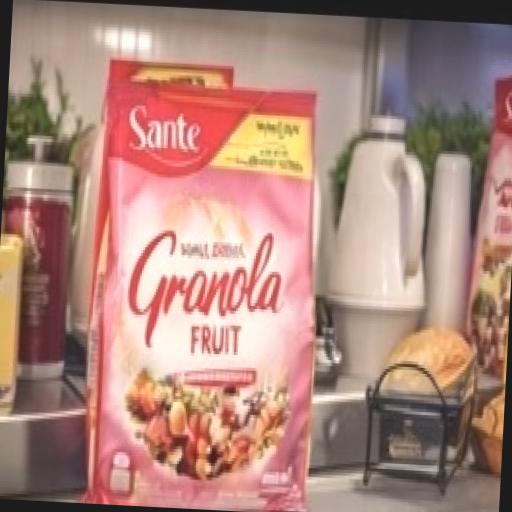granola: (58, 44, 349, 512)
